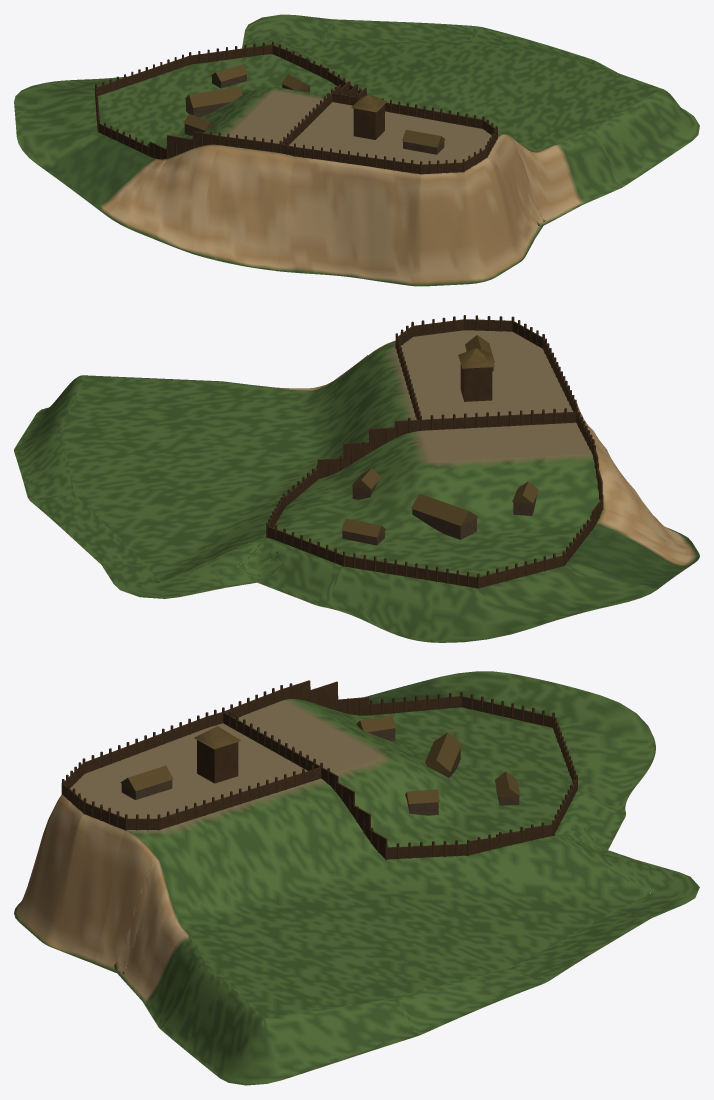
Rendered from nottingham-castle-b10.glb.
3 views of the same model, one above another, from view 1: azimuth 30°, elevation 25°; view 2: azimuth 150°, elevation 25°; view 3: azimuth 270°, elevation 25° (orthographic). The views are drawn at different scales.
Size of the model in its own units: 25.6 by 5.67 by 20.92.
Materials: 4 (3 with a texture image).
